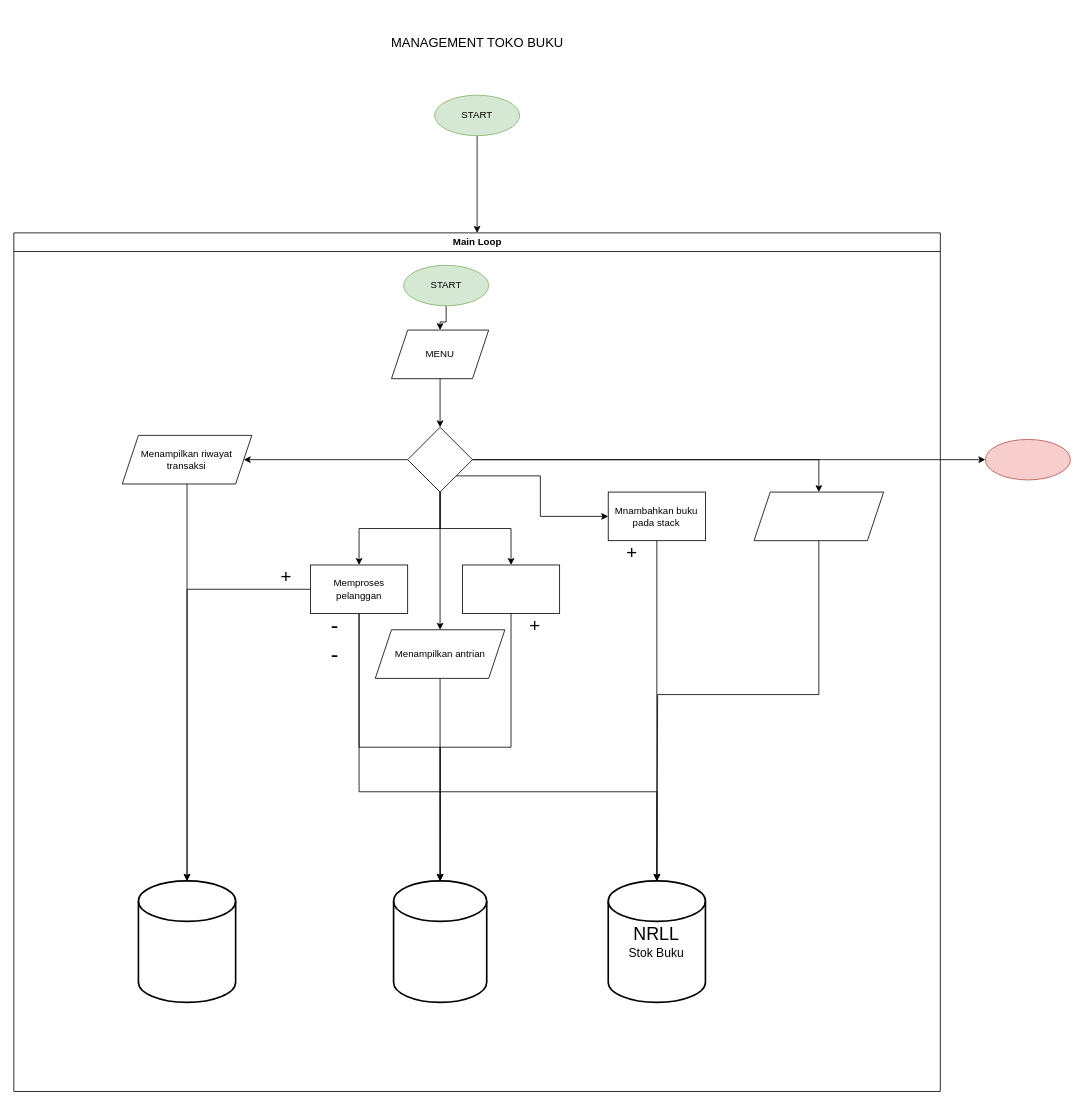
Image size: 1085x1106. Some labels were removed from this diagram. The shapes that lost their labels are listed below. From the top down, each one's centre as x and y in pixels, then its label:
At pixel 1027 459: "EXIT".
At pixel 818 516: "Menampilkan stok buku".
At pixel 511 589: "Registrasi pelanggan baru".
At pixel 186 941: "STACK riwayat transaksi".
At pixel 439 941: "QUEUE antrian pelanggan".
